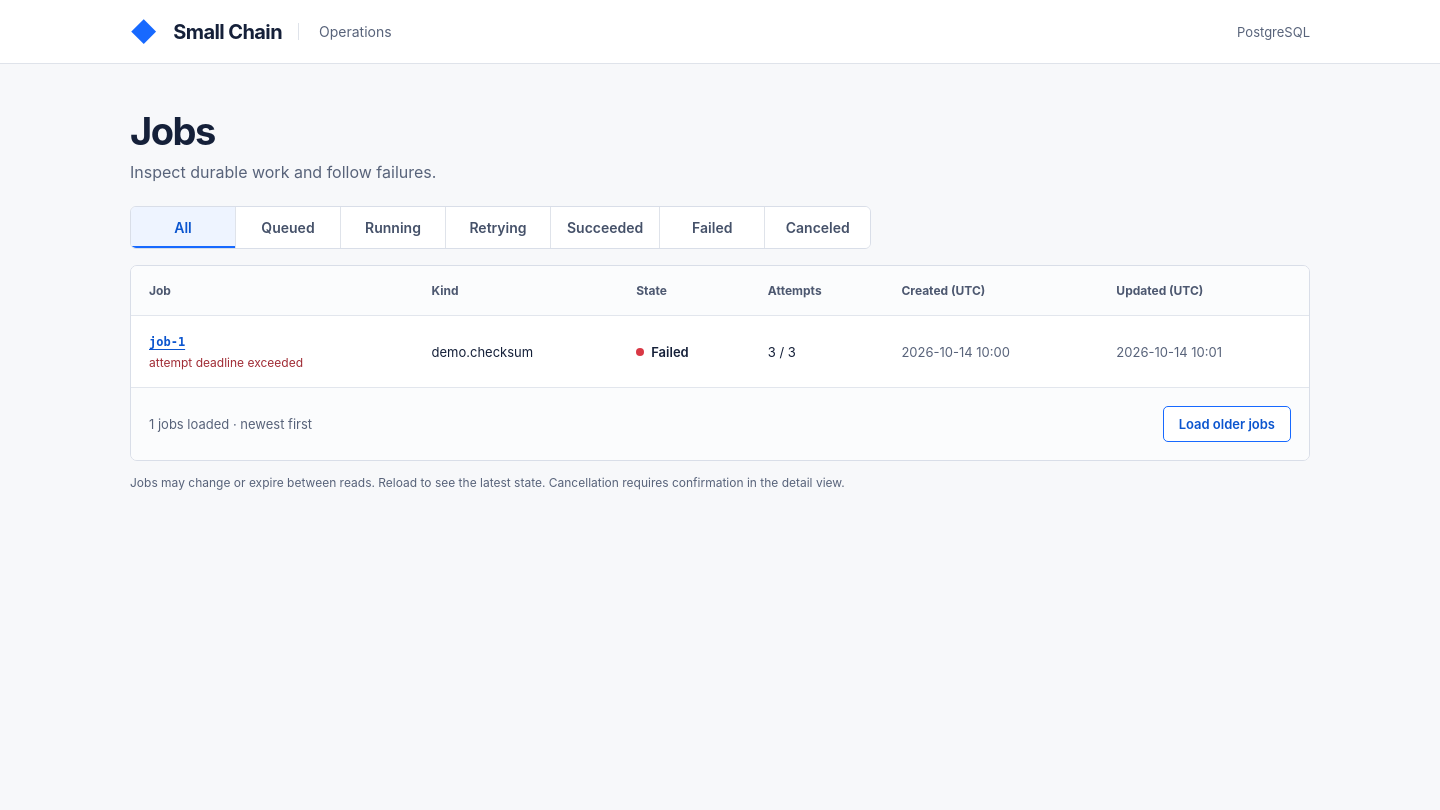
Test: operations console › resets the cursor chain when filtering
Expected: the text "job-1" is shown, [149, 335, 185, 349]
Click the button "Queued" at (288, 228), box [236, 207, 341, 248]
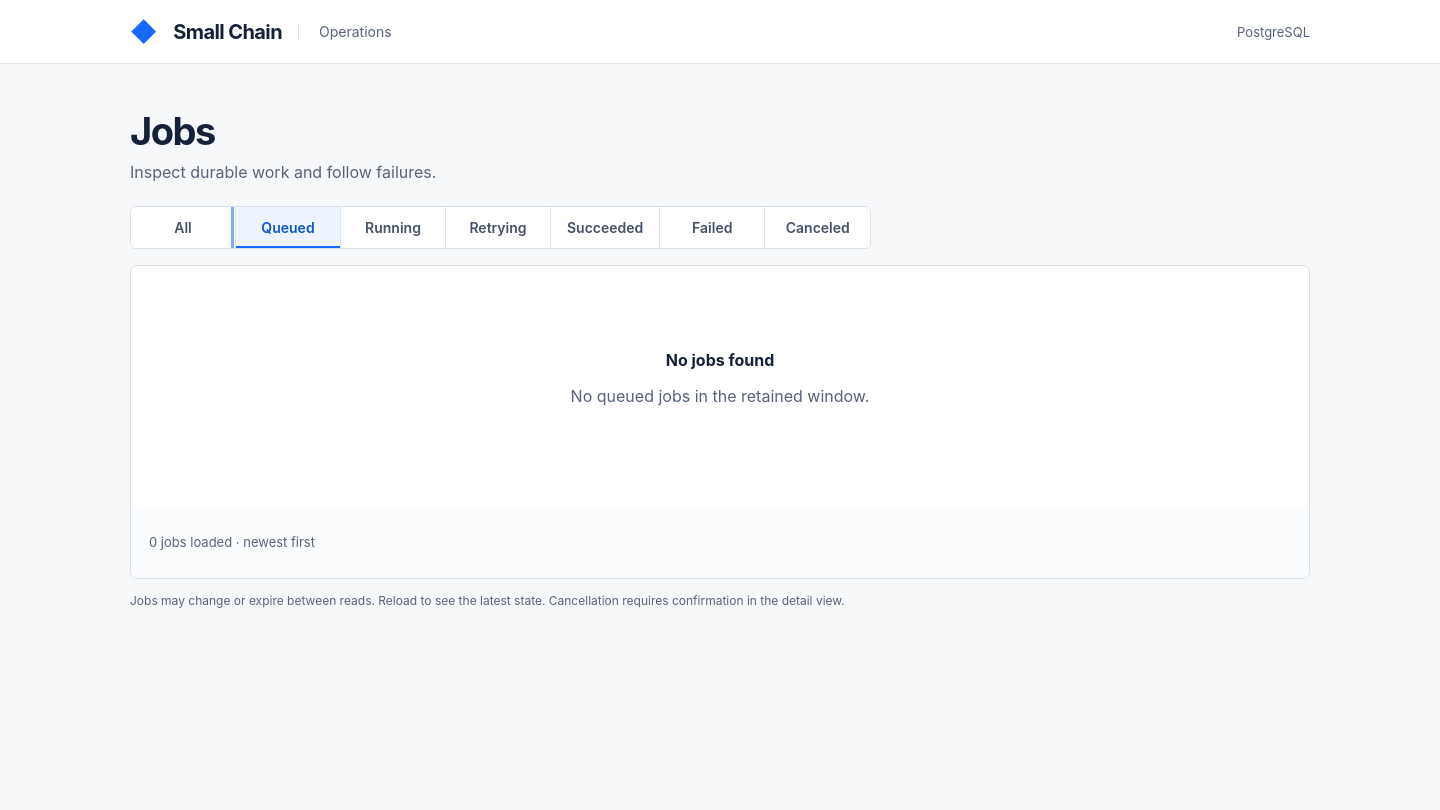
Now the text "No jobs found" is shown, box [666, 350, 774, 370]
